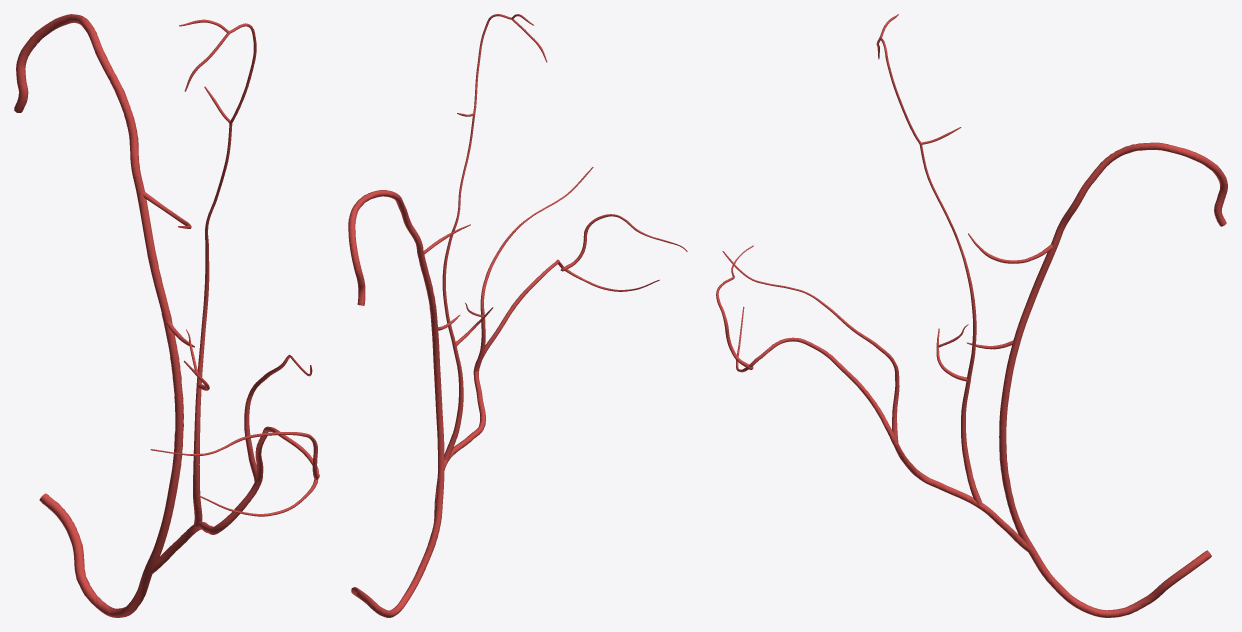
3 views of the same model, side by side, from view 1: azimuth 30°, elevation 25°; view 2: azimuth 150°, elevation 25°; view 3: azimuth 270°, elevation 25° (orthographic). The views are drawn at different scales.
Parts seen in each view (by area): view 1: 右侧胼周动脉; view 2: 右侧胼周动脉; view 3: 右侧胼周动脉.
Part boxes in pixels (<box>): 右侧胼周动脉: <box>14,14,319,617</box>; 右侧胼周动脉: <box>348,14,687,617</box>; 右侧胼周动脉: <box>716,14,1227,617</box>.
Bounding box in the file's own units: 0.046 × 0.1568 × 0.1244.
